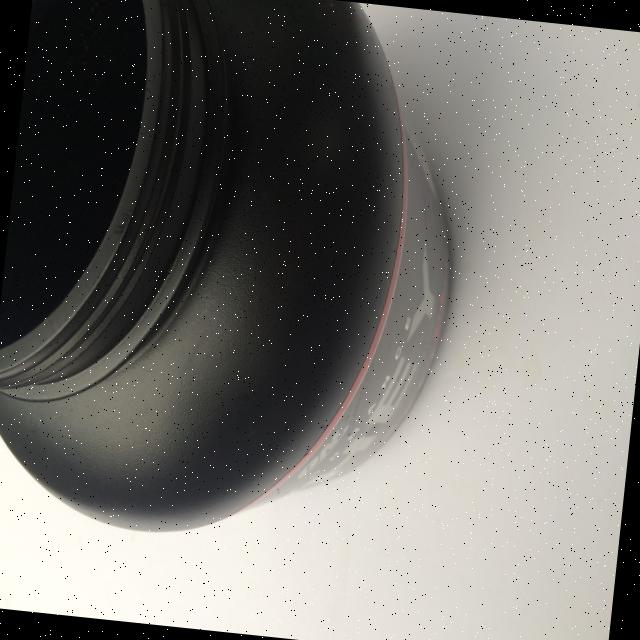plastic: (0, 0, 478, 561)
